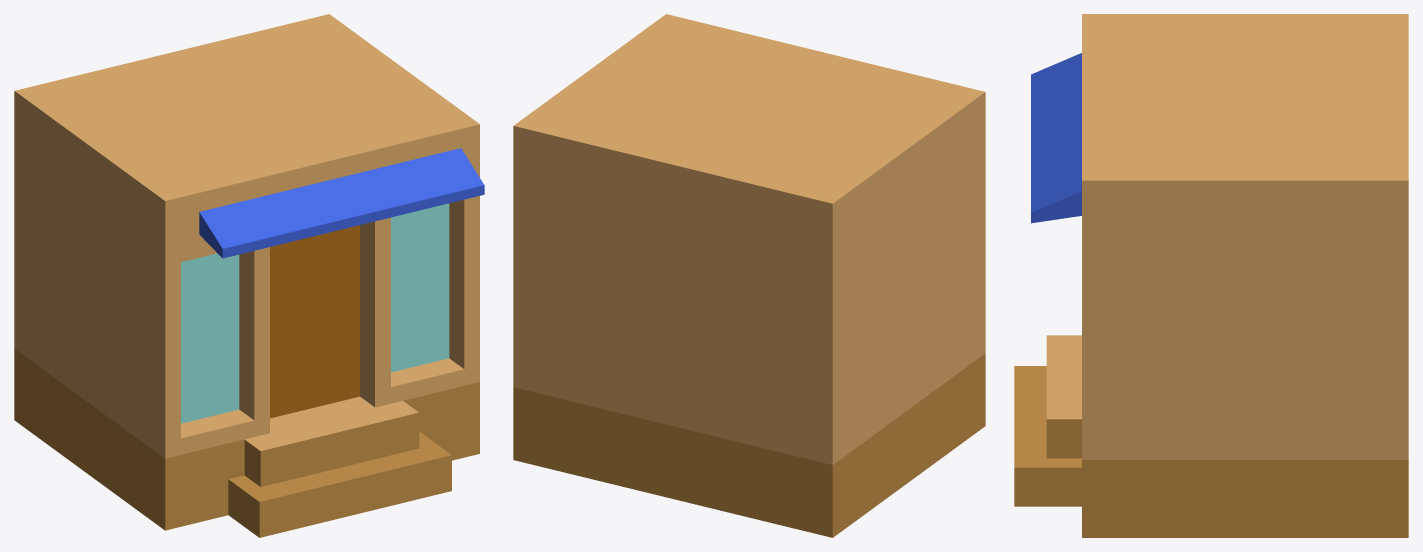
File: Building Base4.fbx
3 renders of one model, left to right at view 1: azimuth 30°, elevation 25°; view 2: azimuth 150°, elevation 25°; view 3: azimuth 270°, elevation 25°, orthographic. The views are drawn at different scales.
Visible parts, largest first — view 1: base6; view 2: base6; view 3: base6.
Boxes of the visible parts, box(x1,y1,x2,y2) form: base6: box(14, 14, 484, 537); base6: box(513, 14, 985, 537); base6: box(1014, 14, 1408, 537).
Bounding box in the file's own units: 300 × 300 × 300.
